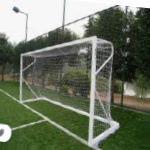goals: (19, 34, 120, 148)
